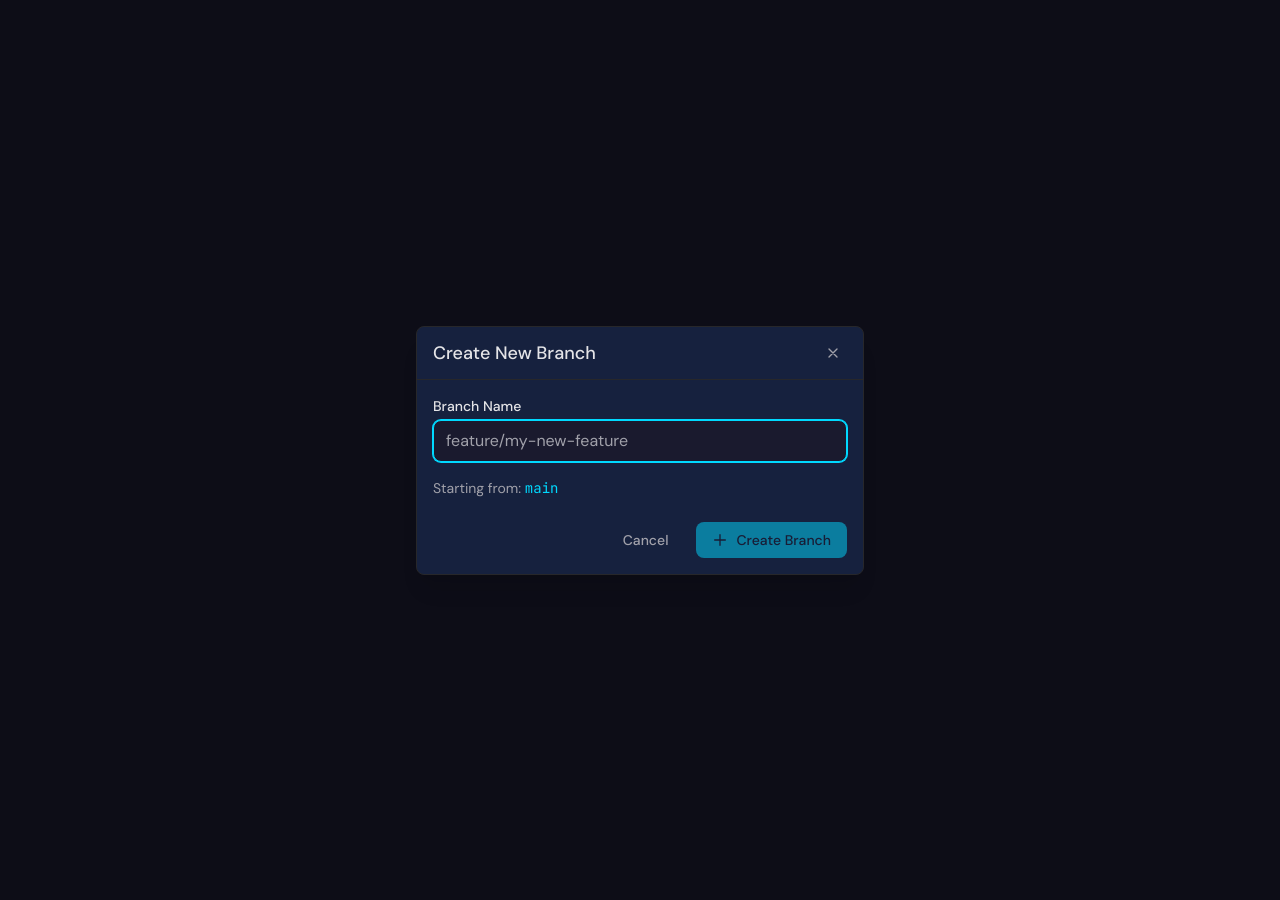
Scenario: CreateBranchModal › should show error for branch name starting with dash
Type "-my-feature" into the field labelled "Branch Name" at point(640, 440), box x1=433 y1=420 x2=847 y2=462
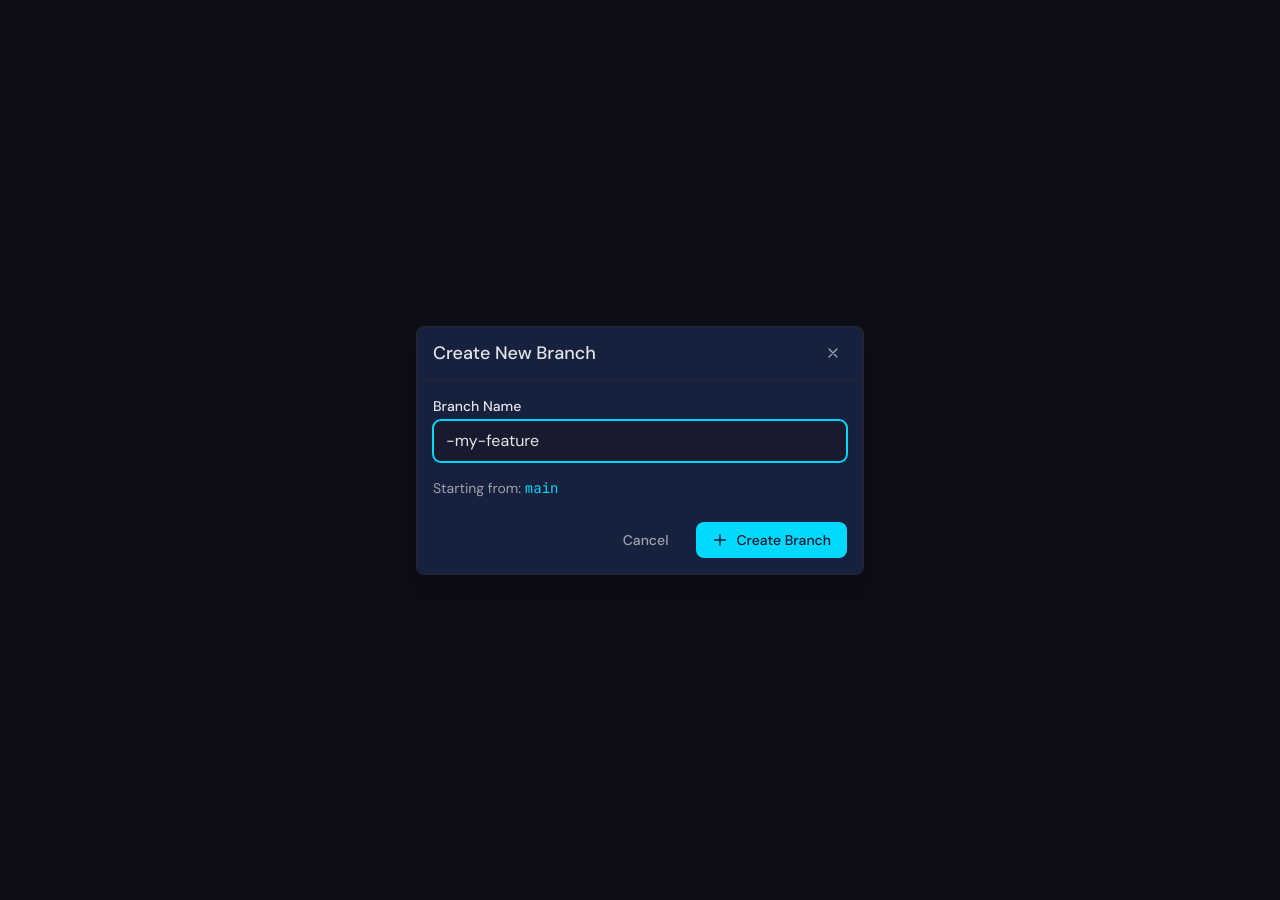
Submit the form "Branch Name Starting from: main Cancel Create Branch", box x1=417 y1=380 x2=863 y2=574
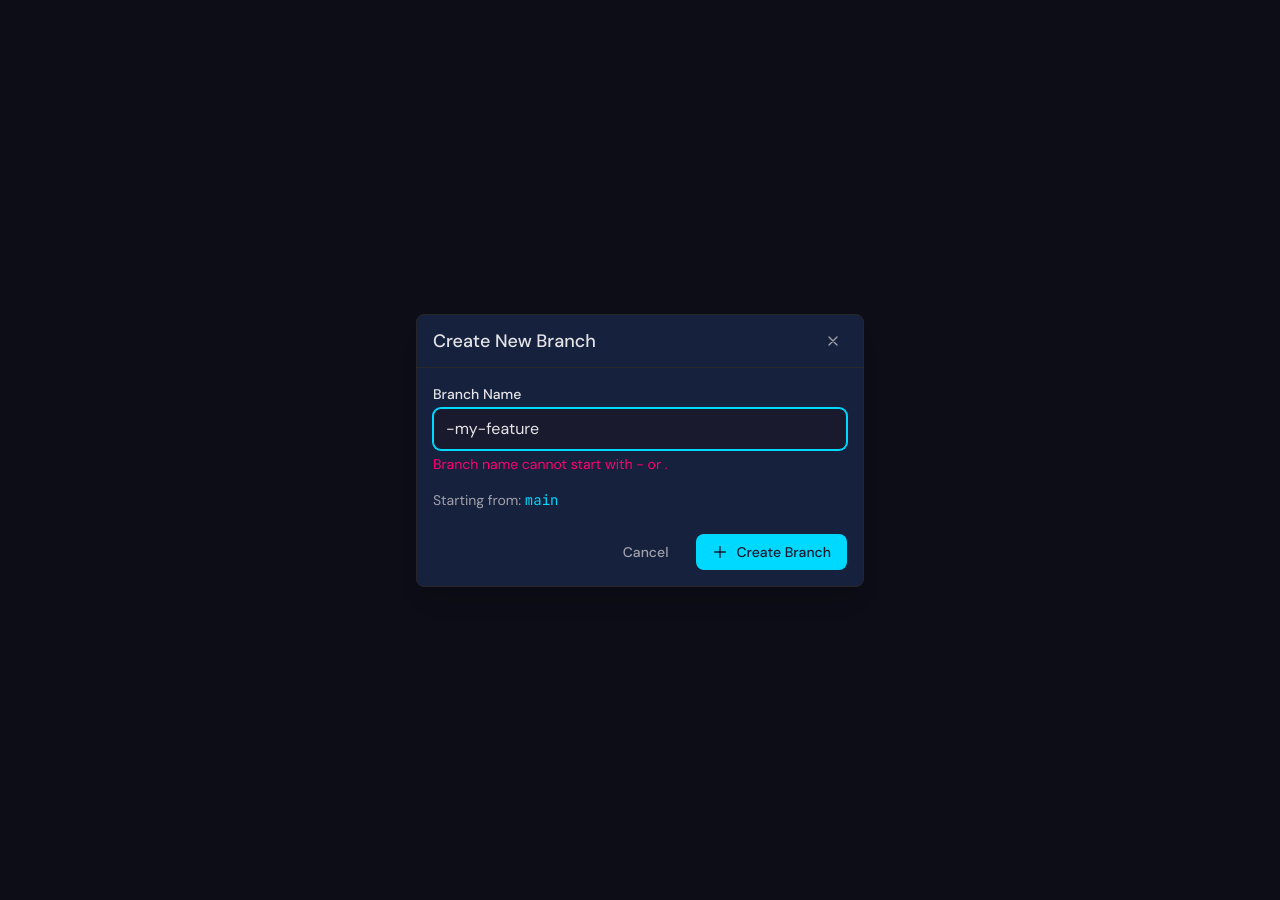
Result: the text "Branch name cannot start with - or ." is shown at x1=433 y1=454 x2=668 y2=472
